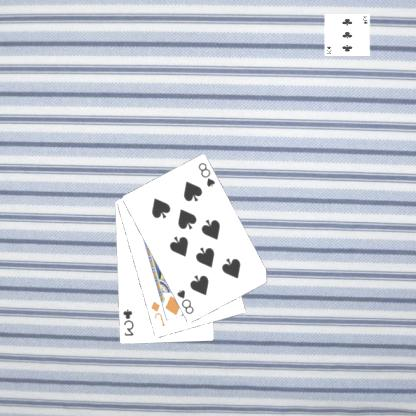3C: (121, 306, 137, 338)
8S: (176, 287, 197, 316), (197, 160, 218, 189)
JD: (150, 298, 168, 328)
